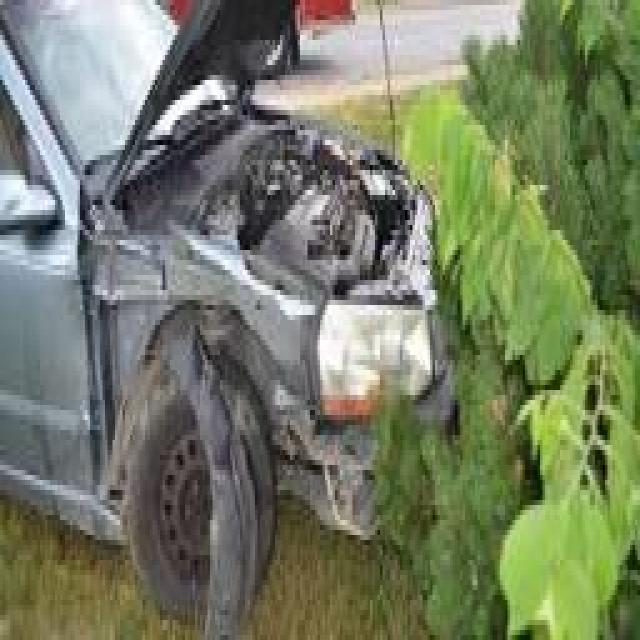Bonnet: (117, 0, 428, 301)
Bumper: (276, 363, 462, 542), (399, 213, 456, 370)
Fender: (81, 210, 322, 536)
